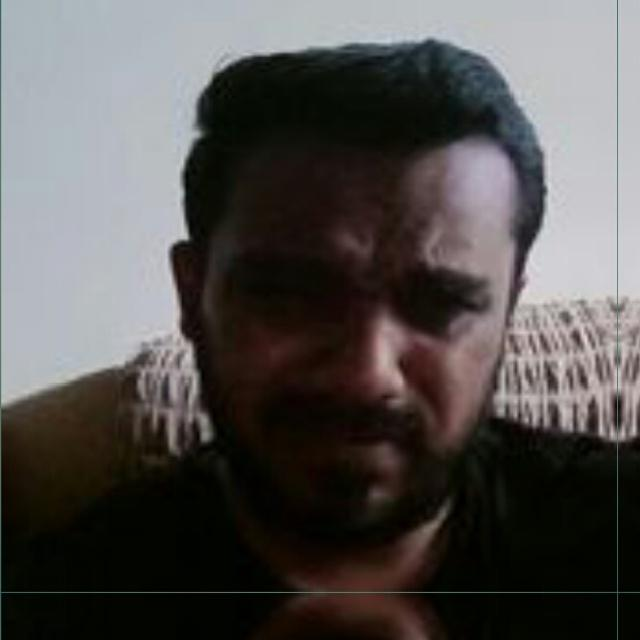Disgust: (166, 119, 530, 559)
